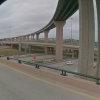Bridge: (6, 3, 87, 53)
